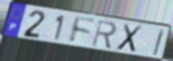1: (53, 14, 66, 41)
2: (22, 10, 47, 40)
F: (68, 16, 97, 45)
I: (152, 29, 166, 57)
R: (90, 19, 118, 51)
X: (115, 23, 144, 54)
